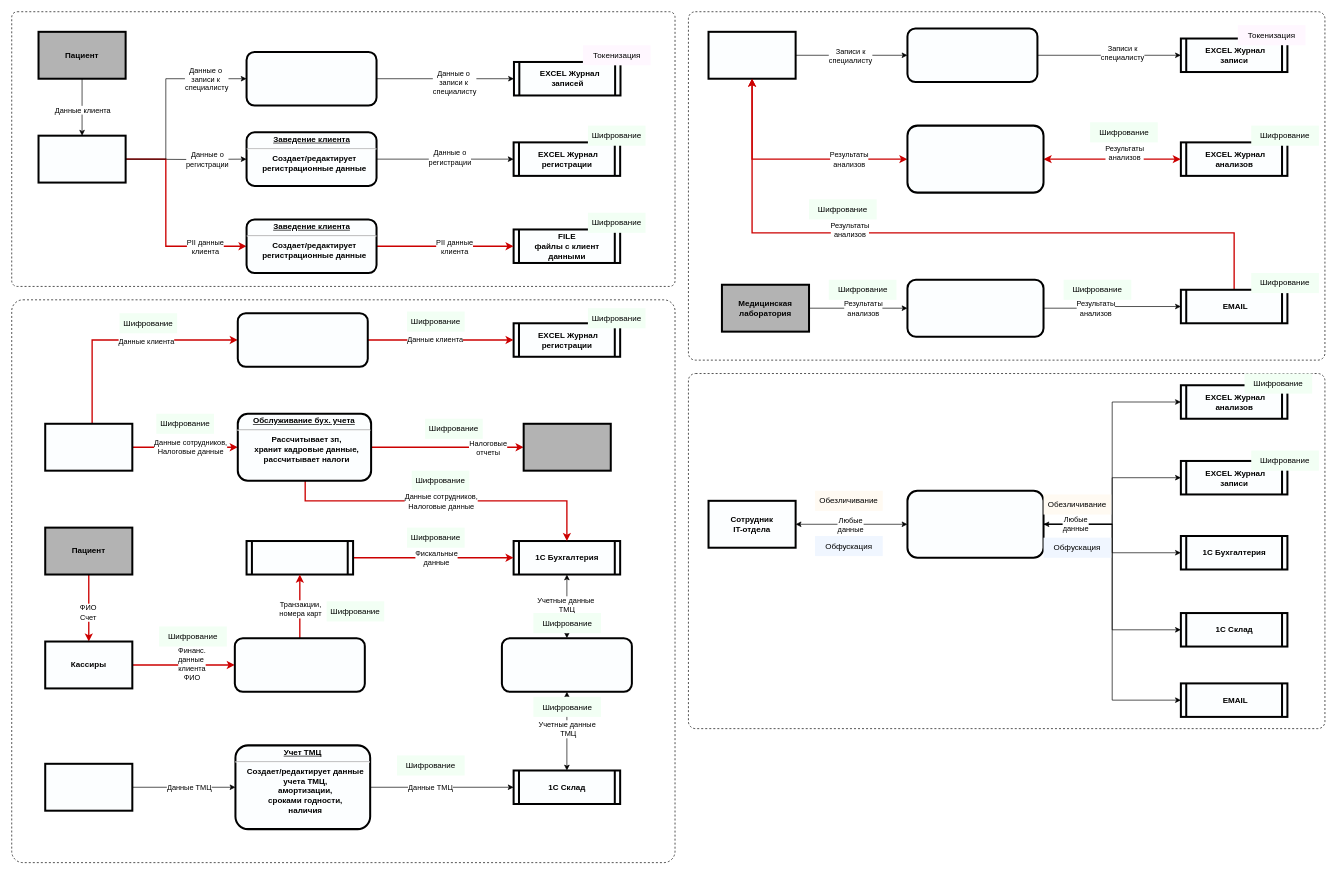
This 1337x874 diagram has some shape labels left out. Here are the shapes that lost their labels. From the top down, the centre of each, then its label:
At pixel 751 54: "Медицинские специалисты".
At pixel 972 55: "Запись к специалисту Просматривает записи, редактирует".
At pixel 311 78: "Заведение записи Создает/редактирует данные записи".
At pixel 81 158: "Ресепшен".
At pixel 975 158: "Анализы Создает/просматривает запись по результатам анализов".
At pixel 975 307: "Анализы Присылает анализы".
At pixel 302 339: "Заведение клиента Просматривает данные клиента".
At pixel 88 446: "Бухгалтерия".
At pixel 566 446: "Госорганы".
At pixel 975 523: "Поддержка Обеспечивает доступность и целостность данных".
At pixel 299 557: "ККМ".
At pixel 299 664: "Проведение платежа Проводит платеж за услуги".
At pixel 567 664: "Обмен файлами Внутрисистемный обмен".
At pixel 88 786: "Сотрудник Склада".
